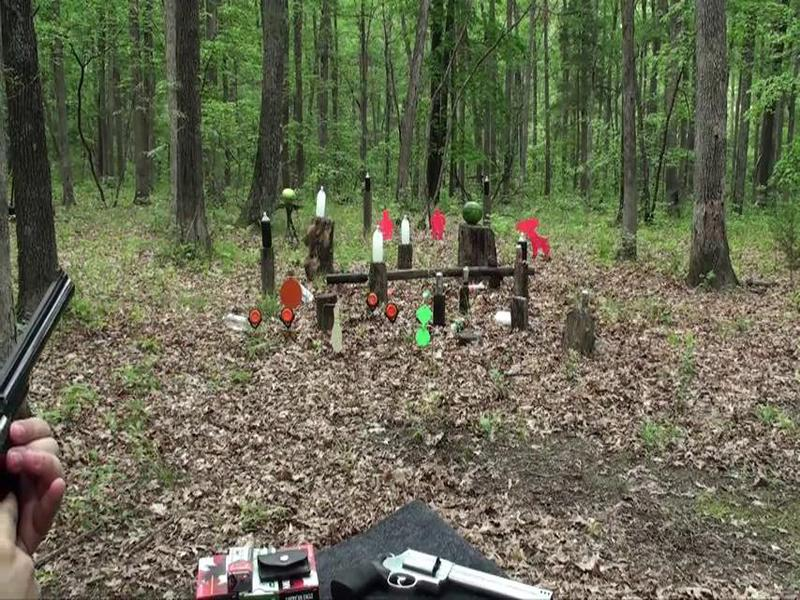Revolver: (1, 257, 88, 484)
